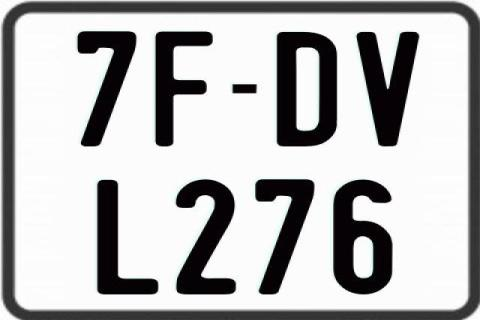0: (174, 179, 238, 299), (74, 30, 138, 146), (255, 178, 316, 298), (333, 179, 393, 297)
D: (278, 32, 341, 150)
F: (153, 31, 214, 149)
L: (97, 178, 163, 296)
V: (357, 31, 419, 148)
